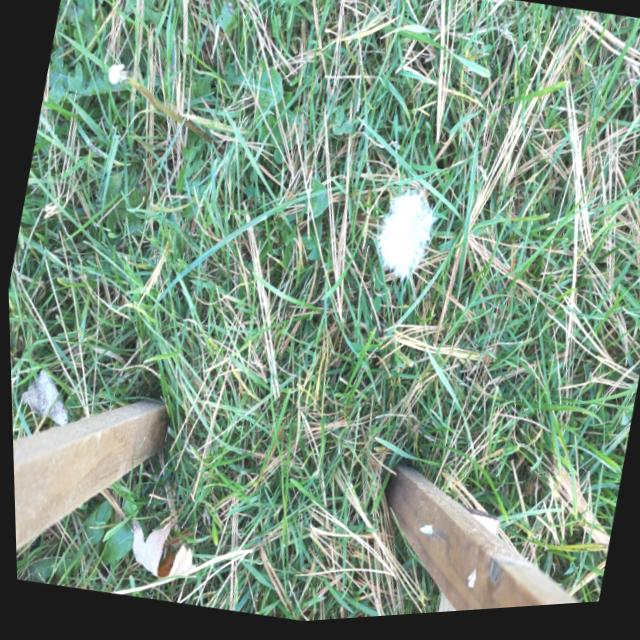base: (205, 135, 228, 170), (343, 209, 364, 238)
flower: (369, 190, 434, 286), (103, 57, 132, 97)
